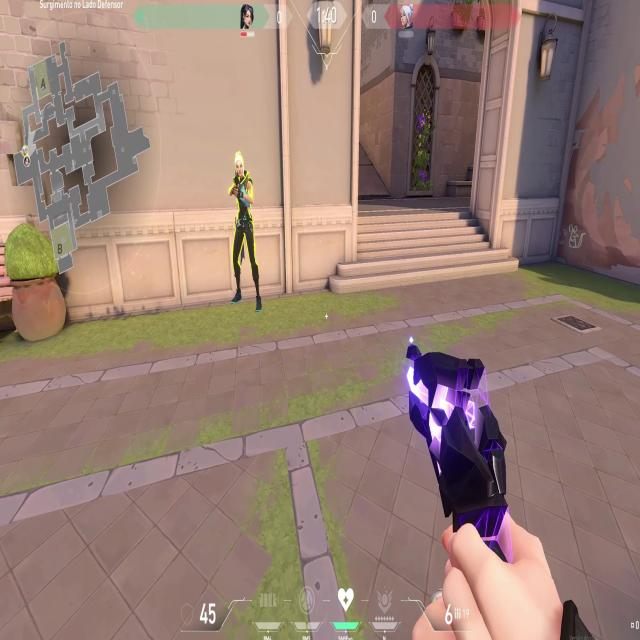head: (233, 150, 246, 178)
